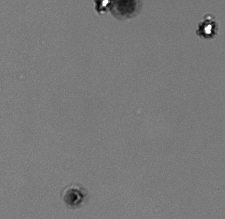Dead Cell: (112, 1, 140, 17), (63, 189, 83, 207)
Living Cell: (198, 19, 216, 38), (95, 1, 112, 13)
